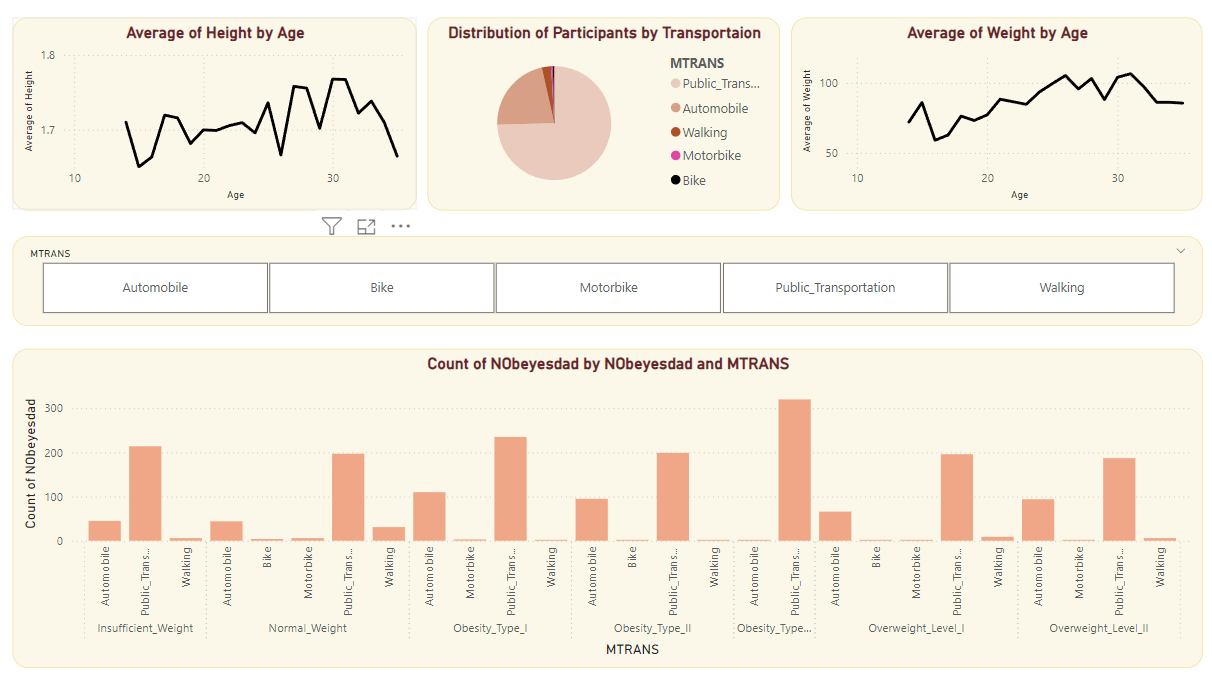

The dashboard page shown, as its layout file describes it:
{"tool":"powerbi","page":{"name":"Page 2","canvas":[1280,720],"ordinal":1},"visuals":[{"type":"lineChart","fields":{"Category":["obersity.Age"],"Y":["Avg(obersity.Weight)"]},"box":[832.9,18.6,432.9,202.9],"z":0},{"type":"lineChart","fields":{"Category":["obersity.Age"],"Y":["Avg(obersity.Height)"]},"box":[12.9,18.6,425.7,202.9],"z":1000},{"type":"lineStackedColumnComboChart","fields":{"Category":["obersity.NObeyesdad","obersity.MTRANS"],"Y":["CountNonNull(obersity.NObeyesdad)"]},"box":[12.9,367.1,1252.9,335.7],"z":2000},{"type":"pieChart","title":"Distribution of Participants by Transportaion","fields":{"Category":["obersity.MTRANS"],"Y":["CountNonNull(obersity.MTRANS)"]},"box":[450,18.6,371.4,202.9],"z":3000},{"type":"slicer","fields":{"Values":["obersity.MTRANS"]},"box":[12.9,248.6,1252.9,94.3],"z":4000}]}

Visuals, with their boxes in screenshot pixels (x1, y1, x2, y2), scaled from the page's 1280x720 canvas onto the 1212x675 screenshot:
lineChart - obersity.Age x Avg(obersity.Weight): <bbox>789, 17, 1199, 208</bbox>
lineChart - obersity.Age x Avg(obersity.Height): <bbox>12, 17, 415, 208</bbox>
lineStackedColumnComboChart - obersity.NObeyesdad x obersity.MTRANS: <bbox>12, 344, 1199, 659</bbox>
"Distribution of Participants by Transportaion" pieChart: <bbox>426, 17, 778, 208</bbox>
slicer - obersity.MTRANS: <bbox>12, 233, 1199, 321</bbox>
